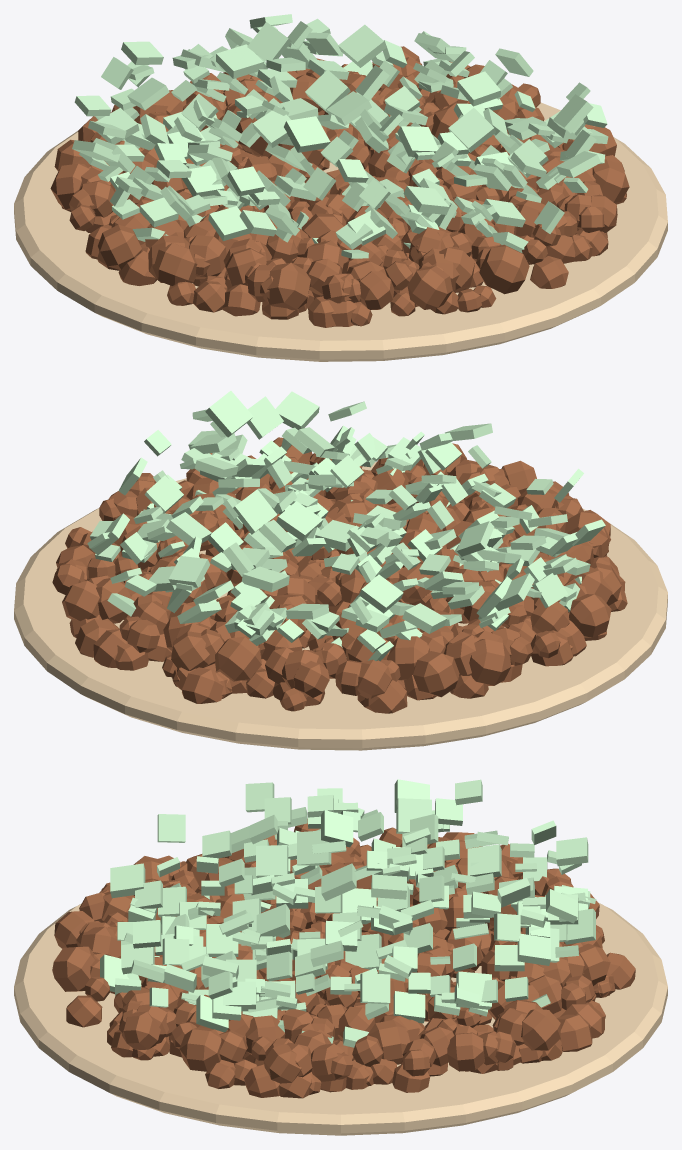
Rendered from taco.glb.
3 views of the same model, one above another, from view 1: azimuth 30°, elevation 25°; view 2: azimuth 150°, elevation 25°; view 3: azimuth 270°, elevation 25° (orthographic).
Visible parts, largest first — view 1: Cylinder; view 2: Cylinder; view 3: Cylinder.
Boxes of the visible parts, x1,y1,x2,y2 form: Cylinder: (14, 14, 667, 361); Cylinder: (14, 391, 667, 750); Cylinder: (14, 779, 667, 1135).
Bounding box in the file's own units: 4.49 × 1.01 × 4.49.
